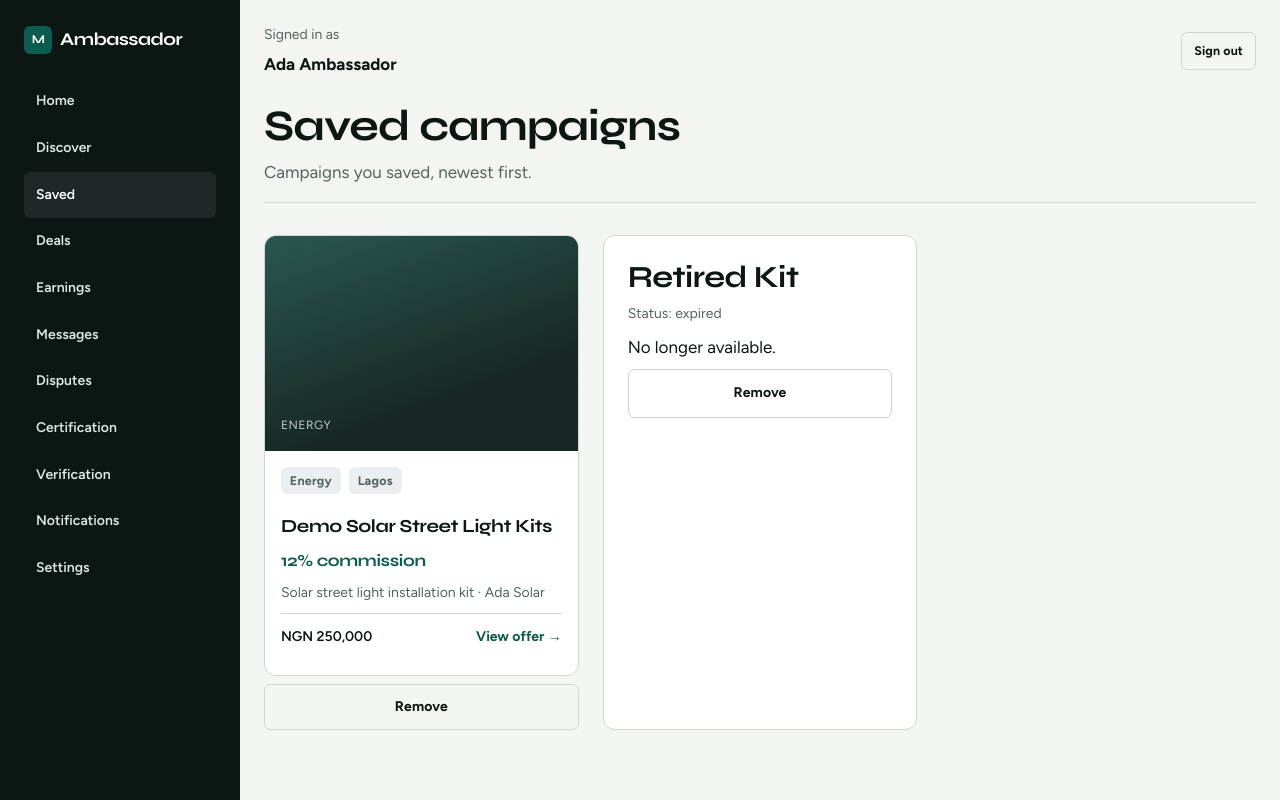
Scenario: keeps remove outside the campaign link and presents unavailable bookmarks safely
This screenshot has width=1280, height=800.
Expected: the heading "Retired Kit" is shown, [628,260,798,296]
Expected: the text "No longer available." is shown, [628,336,776,356]
Click the button with aria-label "remove retired kit".
click(760, 393)  # box [628,369,892,418]
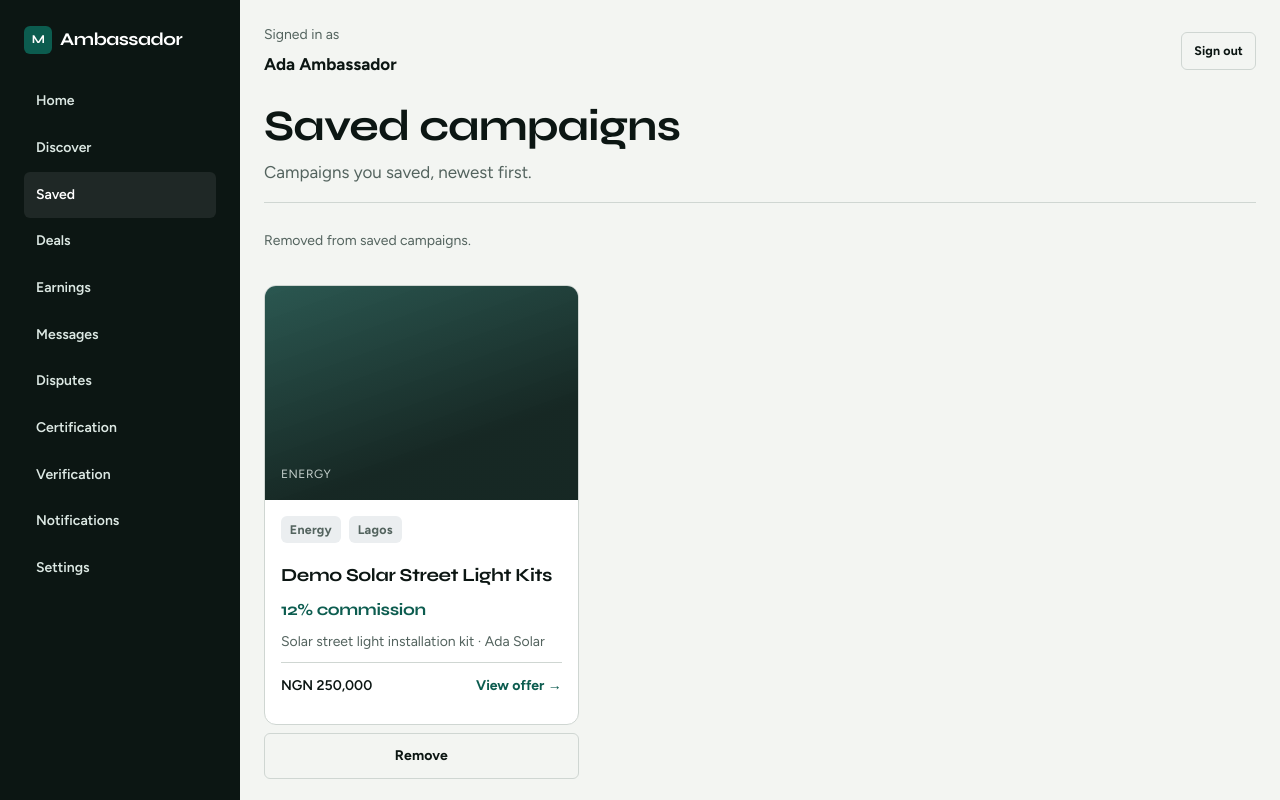
Now the message reads "Removed from saved campaigns.", box [264,232,471,249]
Now the heading "Retired Kit" is gone
